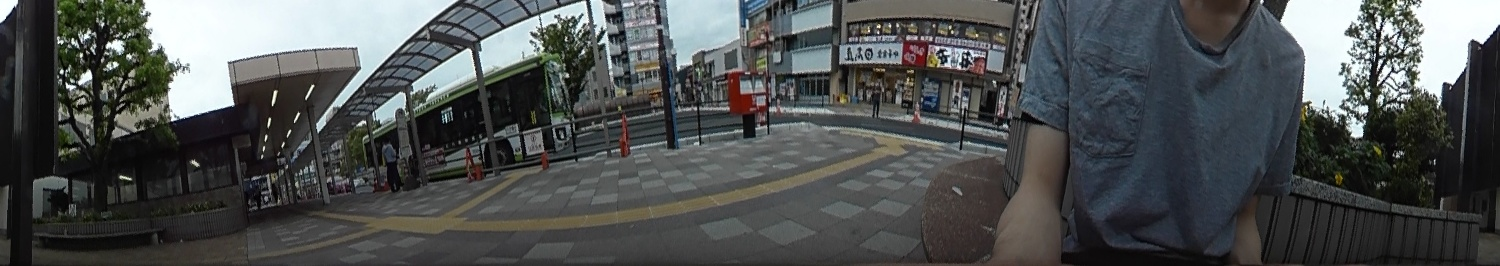difficult_person: (870, 86, 880, 116)
person: (381, 135, 402, 190)
